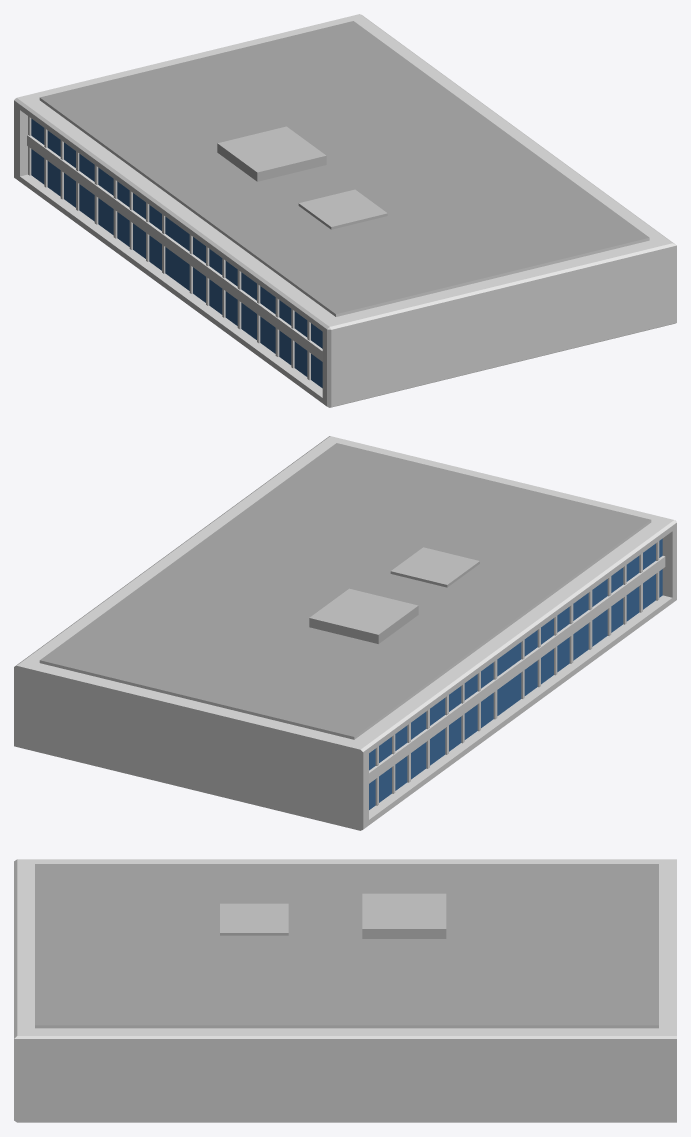
File: airport_2.fbx
3 views of the same model, one above another, from view 1: azimuth 30°, elevation 25°; view 2: azimuth 150°, elevation 25°; view 3: azimuth 270°, elevation 25° (orthographic). The views are drawn at different scales.
Parts seen in each view (by area): view 1: Cube.092, Cube.100, Cube.102, Cube.103, Cube.093, Cube.094, Cube.095; view 2: Cube.092, Cube.100, Cube.102, Cube.103, Cube.093, Cube.094, Cube.095; view 3: Cube.092, Cube.102, Cube.103.
Boxes of the visible parts, x1,y1,x2,y2 form: Cube.092: (14, 14, 676, 407); Cube.100: (27, 135, 322, 361); Cube.102: (217, 126, 326, 181); Cube.103: (298, 189, 387, 229); Cube.093: (76, 151, 279, 356); Cube.094: (129, 190, 225, 317); Cube.095: (28, 116, 310, 380); Cube.092: (14, 436, 676, 830); Cube.100: (369, 556, 665, 783); Cube.102: (309, 588, 418, 643); Cube.103: (390, 547, 479, 587); Cube.093: (407, 576, 611, 782); Cube.094: (461, 616, 557, 743); Cube.095: (375, 541, 659, 805); Cube.092: (14, 859, 676, 1122); Cube.102: (362, 893, 446, 938); Cube.103: (220, 903, 288, 935).
Size of the model in its own units: 646 by 165 by 1010.
